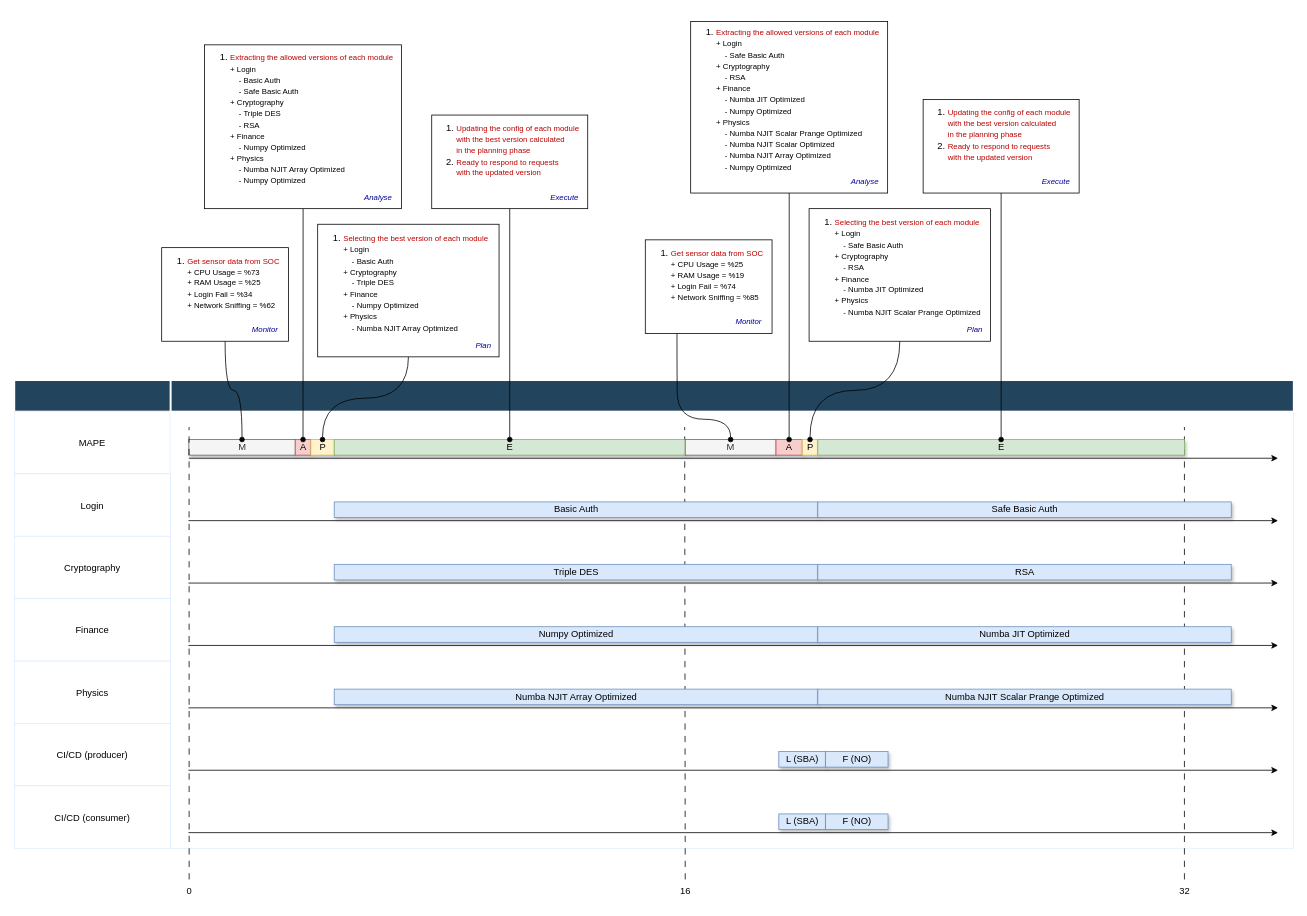
Image size: 1307x916. Some labels were removed from this diagram. The shapes that lost their labels are listed below. From the top down, each one's centre as x and y in pixels, then its label:
pixel 92 395: Pipeline
pixel 732 395: Schedule Chart
